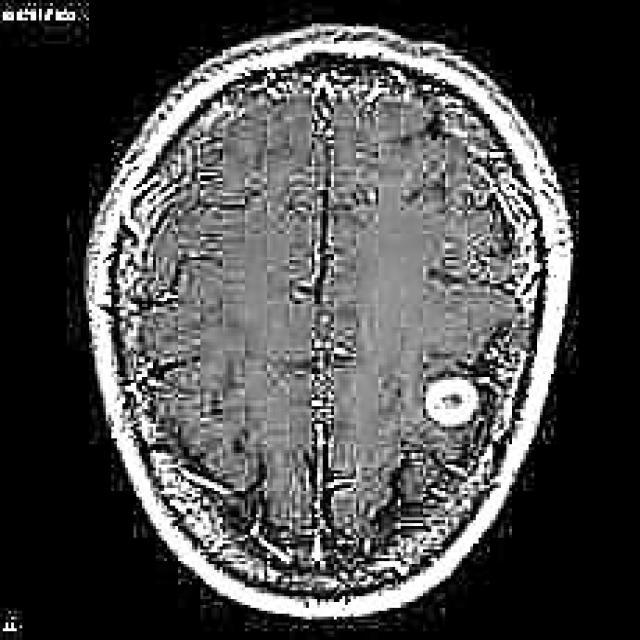Tumor: (423, 380, 484, 426)
